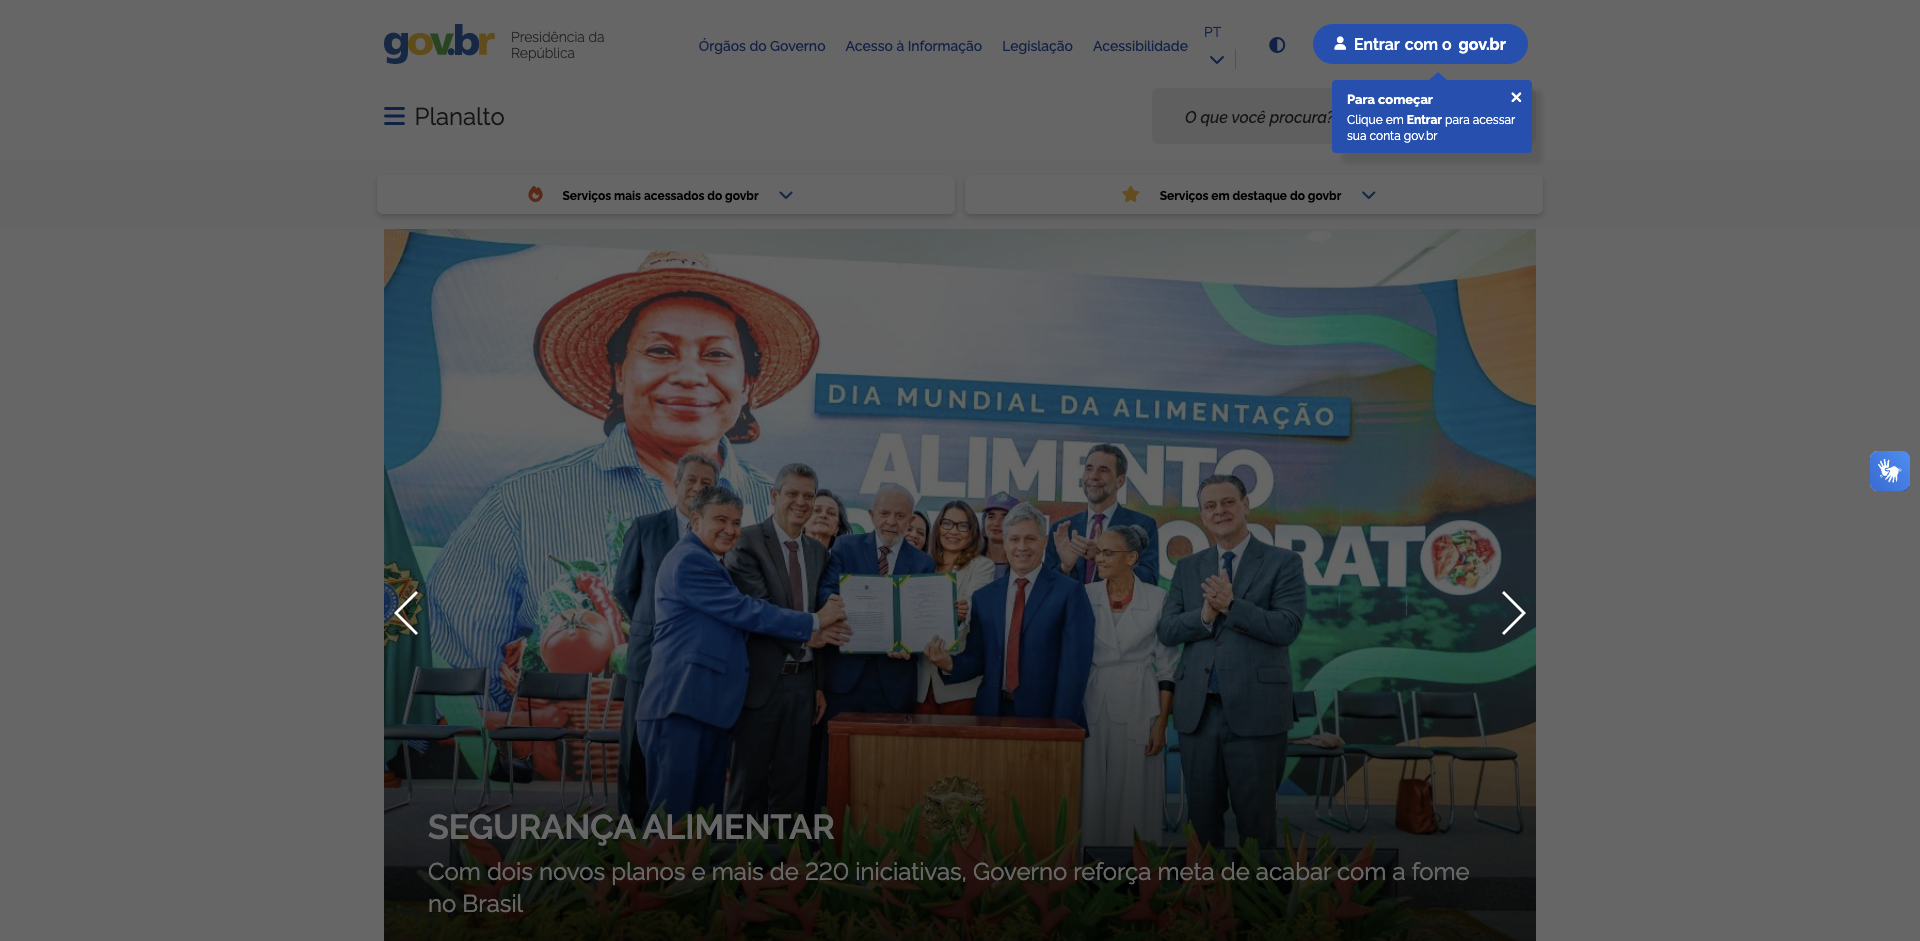button: (377, 175, 955, 213), (965, 175, 1543, 213), (1442, 96, 1490, 135), (1485, 96, 1527, 137), (1870, 451, 1910, 490), (1499, 591, 1526, 635), (394, 591, 421, 635)
dropdown: (0, 0, 1920, 161), (1152, 88, 1536, 145)
input: (1153, 89, 1477, 143)
label: (1477, 89, 1536, 143)
link: (432, 229, 1488, 941), (0, 229, 336, 941), (1584, 229, 1920, 941), (511, 26, 671, 64), (384, 25, 495, 64), (415, 103, 504, 132), (1854, 875, 1904, 925), (846, 36, 982, 54), (699, 36, 825, 54), (1093, 36, 1188, 54), (1002, 36, 1073, 54), (378, 100, 410, 132), (1204, 47, 1228, 72), (1265, 36, 1289, 54)
